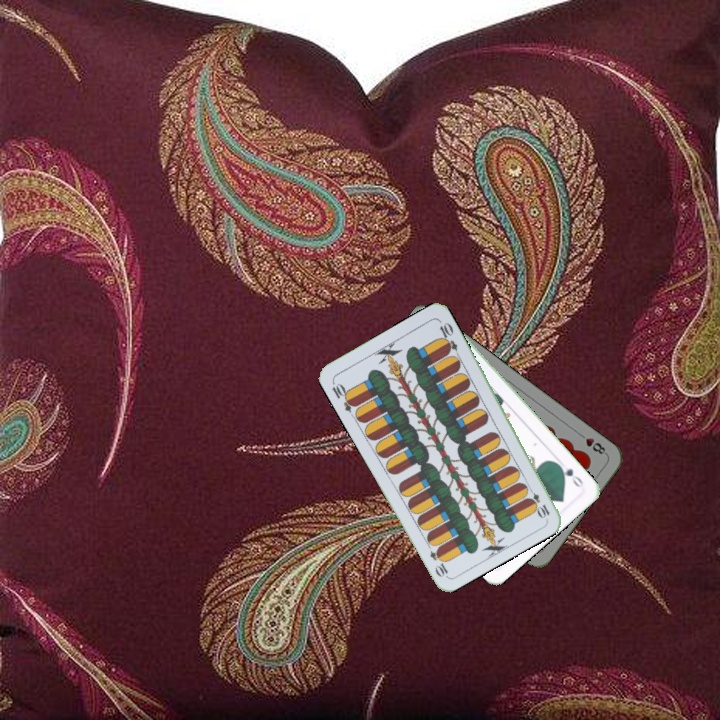E10: (328, 377, 359, 415), (523, 483, 552, 520)
GO: (553, 459, 586, 490)
H8: (574, 429, 610, 458)
